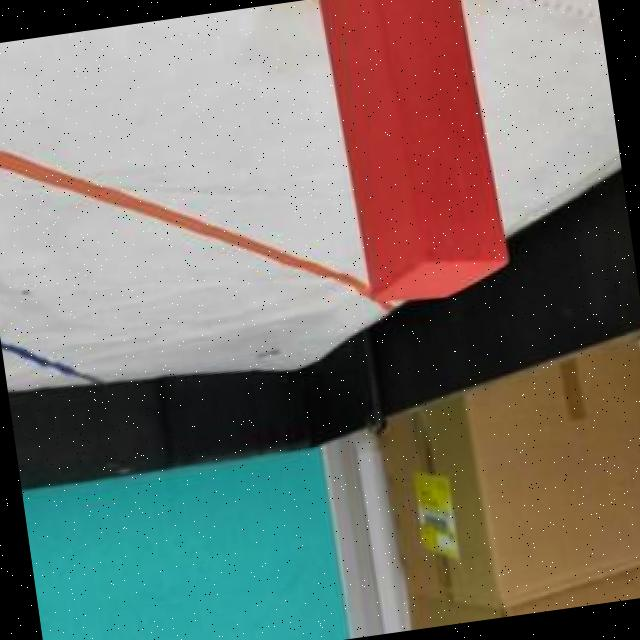redbox: (315, 0, 513, 310)
